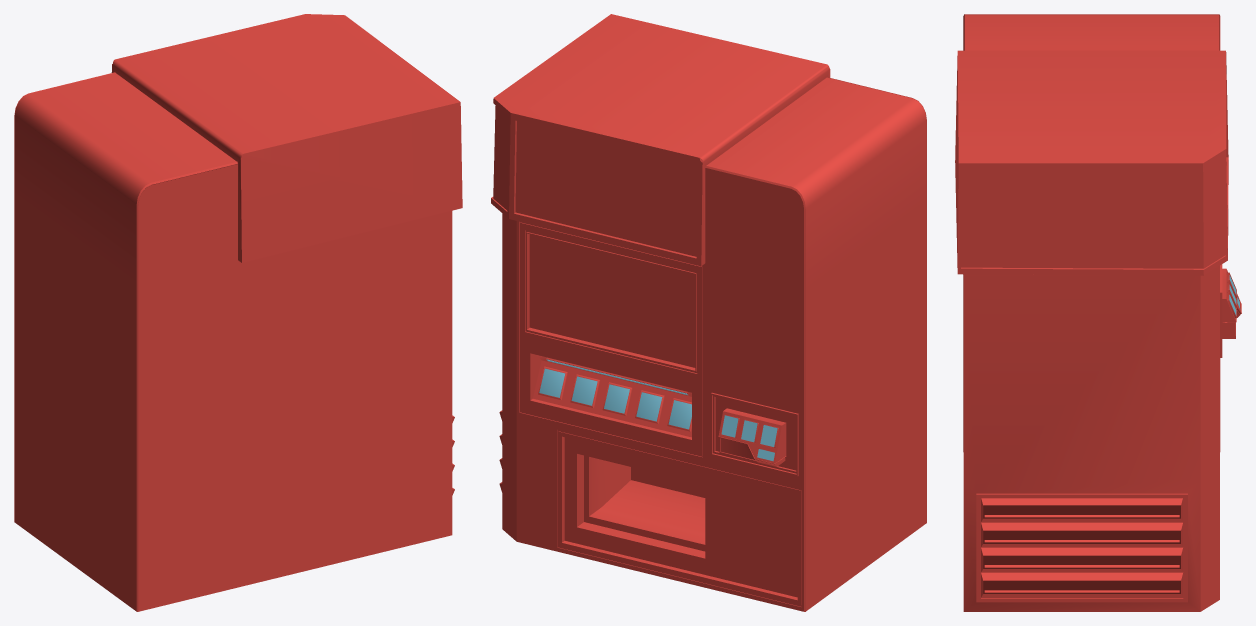
The model's file is AI-Tonic.fbx.
The picture shows the model from 3 angles, left to right: view 1: azimuth 30°, elevation 25°; view 2: azimuth 150°, elevation 25°; view 3: azimuth 270°, elevation 25°; orthographic projection. The views are drawn at different scales.
Visible parts, largest first — view 1: Cube.041; view 2: Cube.041, BUTTONS.001; view 3: Cube.041, BUTTONS.001.
Part boxes in pixels (box(x1,y1,x2,y2)): Cube.041: box(14, 14, 462, 611); Cube.041: box(491, 14, 926, 611); BUTTONS.001: box(718, 408, 786, 466); Cube.041: box(955, 14, 1228, 611); BUTTONS.001: box(1222, 268, 1241, 338).
Bounding box in the file's own units: 142 × 180 × 103.
